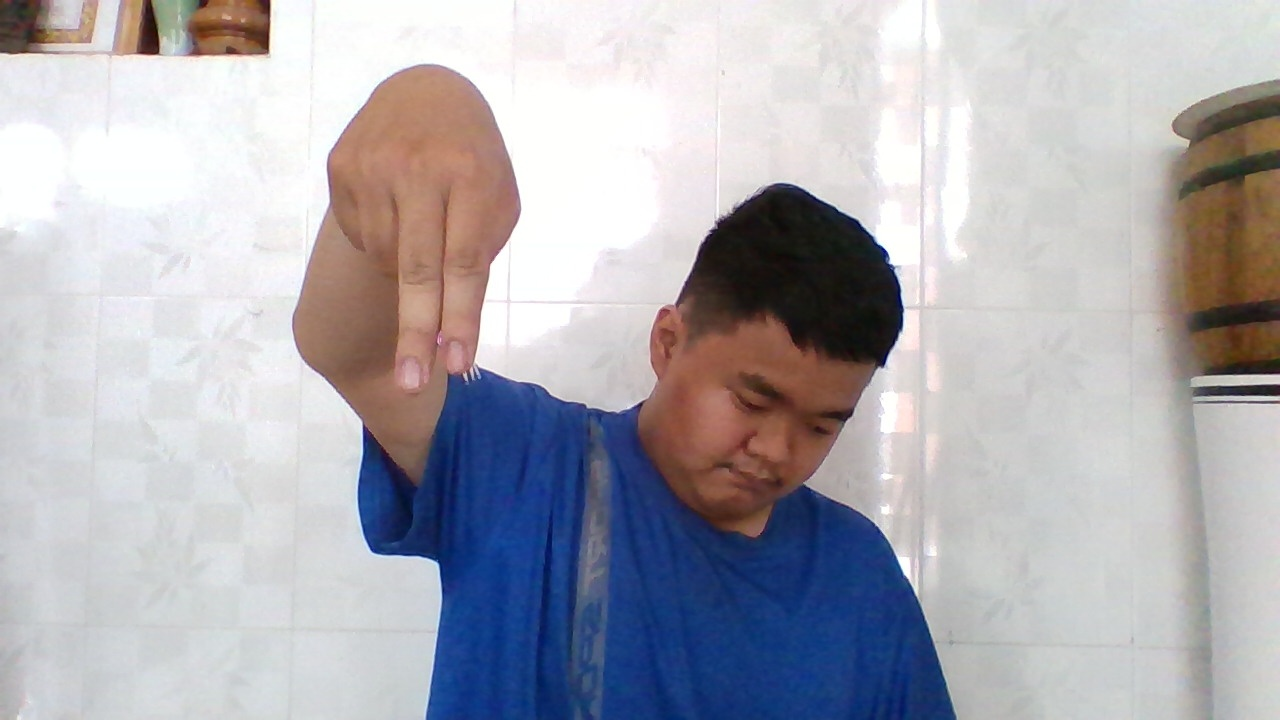N: (322, 70, 524, 408)
